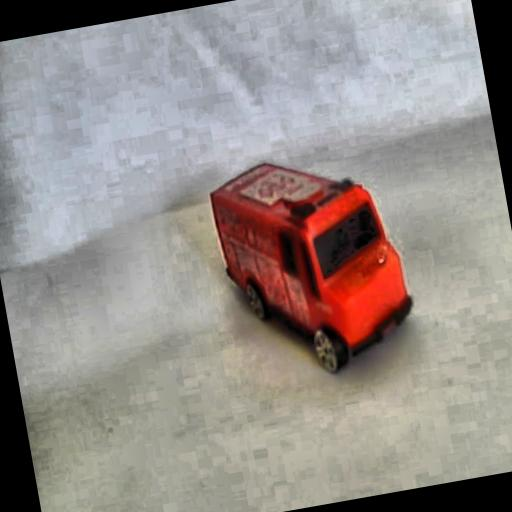fire_truck: (194, 129, 429, 396)
